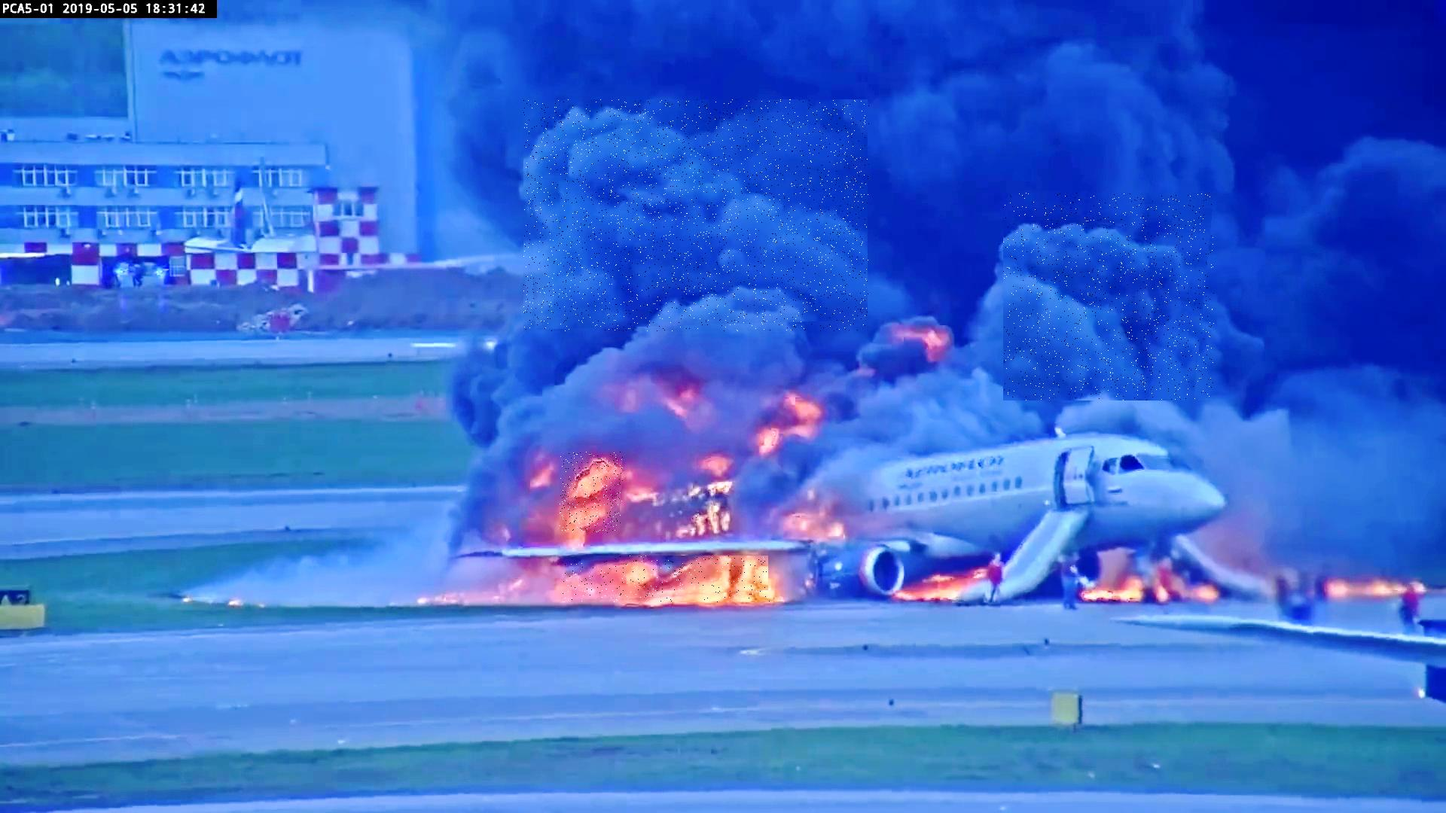fire: (563, 556, 770, 602), (560, 452, 623, 533)
smoke: (524, 100, 870, 332), (1004, 193, 1215, 401)
